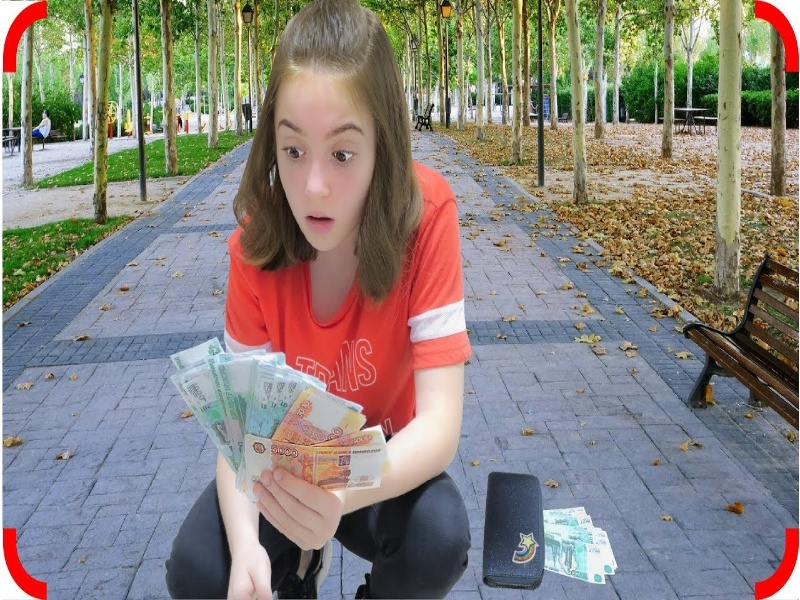cash: (170, 337, 392, 492), (544, 506, 617, 585)
person: (165, 1, 471, 600), (33, 109, 50, 140)
